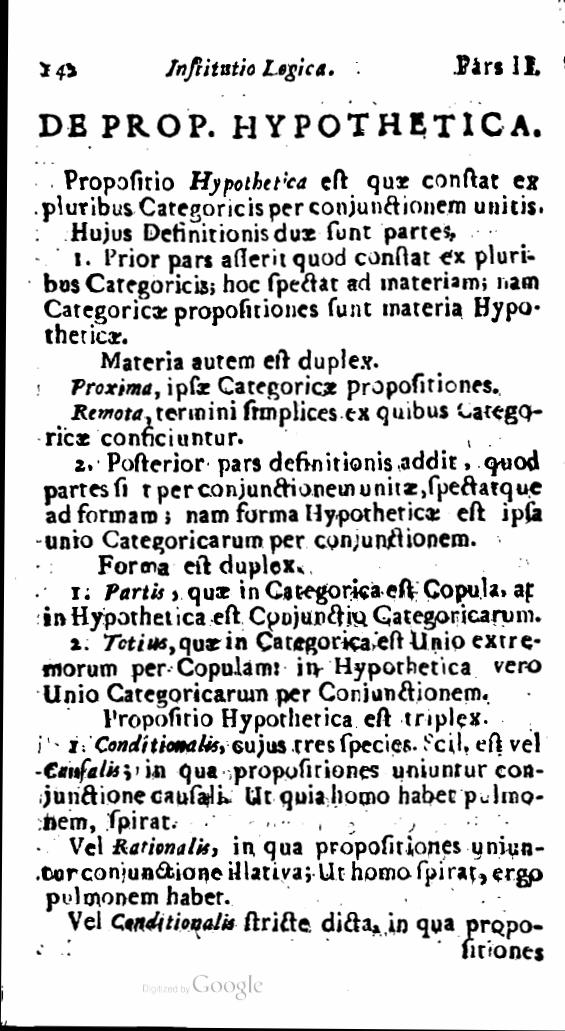catchword: (459, 937, 547, 963)
full_p: (40, 244, 544, 347), (44, 450, 543, 554), (40, 733, 546, 831), (36, 831, 547, 911), (41, 629, 543, 707), (39, 167, 547, 243), (43, 399, 544, 450), (41, 579, 544, 629), (36, 110, 546, 141), (43, 371, 504, 400), (100, 703, 493, 731), (99, 347, 383, 376), (99, 551, 307, 579)
header: (163, 54, 543, 81)
page_num: (36, 56, 79, 81)
top_p: (43, 911, 543, 939)
